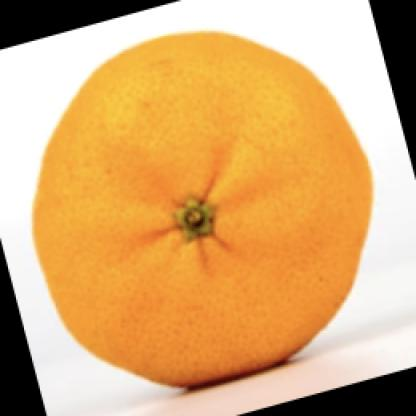fresh: (35, 35, 372, 382)
